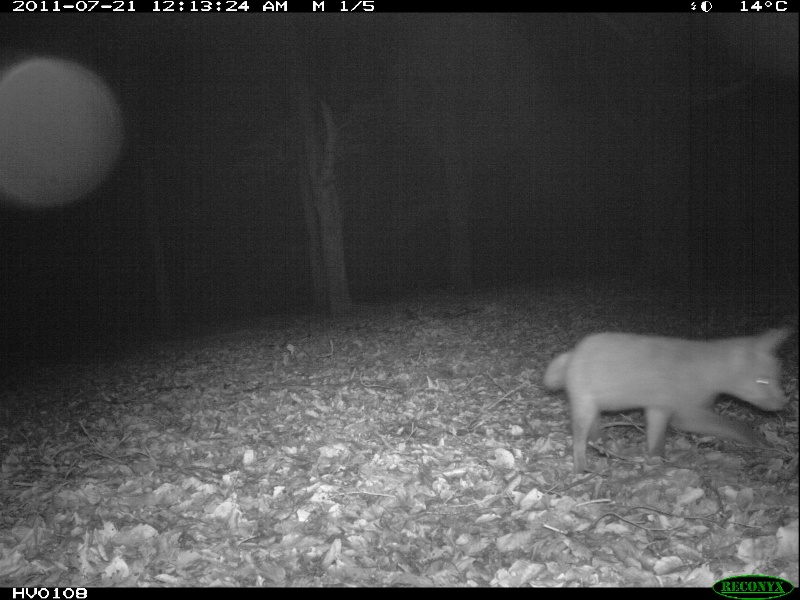fox: (541, 321, 798, 480)
